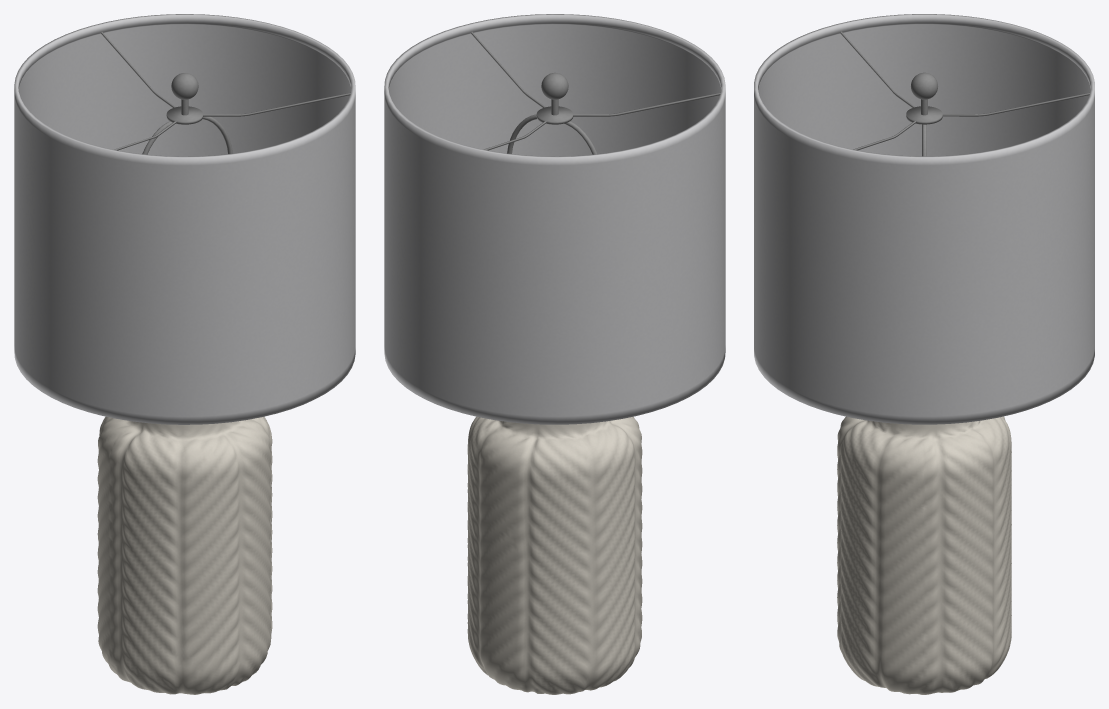
The model's file is abo_B07M6PHS6W.glb.
3 renders of one model, left to right at view 1: azimuth 30°, elevation 25°; view 2: azimuth 150°, elevation 25°; view 3: azimuth 270°, elevation 25°, orthographic.
Visible parts, largest first — view 1: RootNode; view 2: RootNode; view 3: RootNode.
Part boxes in pixels (x1,y1,x2,y2): RootNode: (14, 14, 355, 694); RootNode: (384, 14, 725, 694); RootNode: (754, 14, 1094, 694).
Bounding box in the file's own units: 0.2029 × 0.3889 × 0.2029.
Materials: 1 (1 with a texture image).
